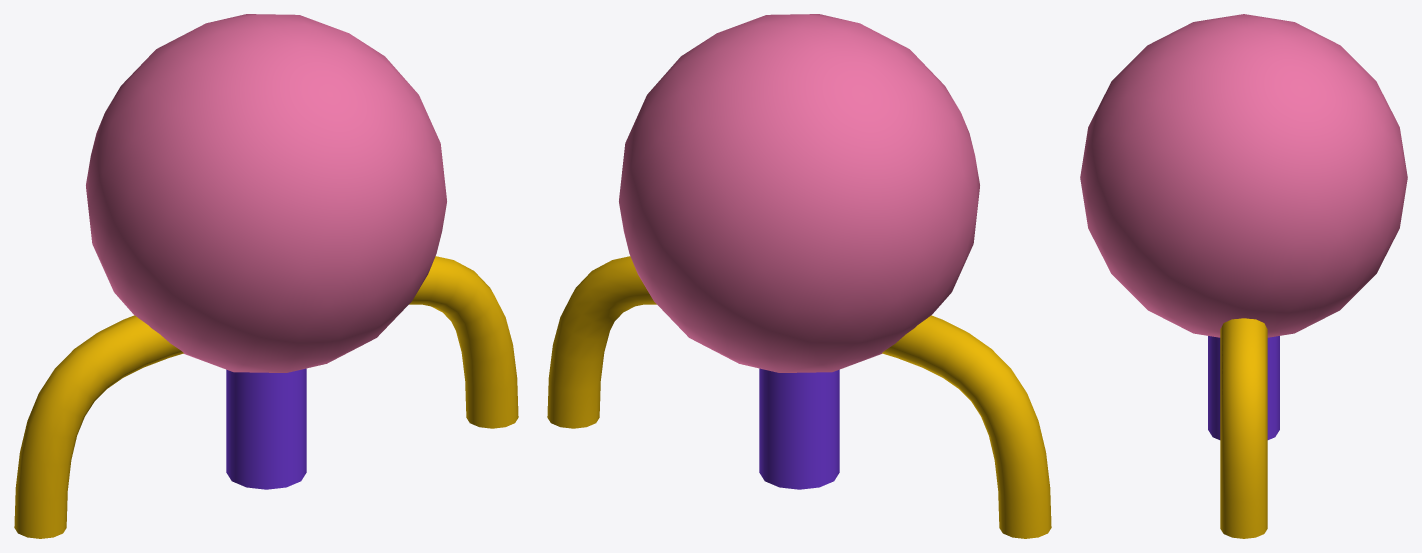
File: city_Props.fbx
The picture shows the model from 3 angles, left to right: view 1: azimuth 30°, elevation 25°; view 2: azimuth 150°, elevation 25°; view 3: azimuth 270°, elevation 25°; orthographic projection. The views are drawn at different scales.
Parts seen in each view (by area): view 1: Tree_1, Railing_1; view 2: Tree_1, Railing_1; view 3: Tree_1, Railing_1.
Boxes of the visible parts, left/top/right/bottom form: Tree_1: left=86, top=14, right=446, bottom=489; Railing_1: left=14, top=256, right=518, bottom=538; Tree_1: left=619, top=14, right=979, bottom=489; Railing_1: left=547, top=256, right=1051, bottom=538; Tree_1: left=1080, top=14, right=1407, bottom=439; Railing_1: left=1220, top=318, right=1267, bottom=538.
Size of the model in its own units: 1.32 by 1.13 by 0.8356.
